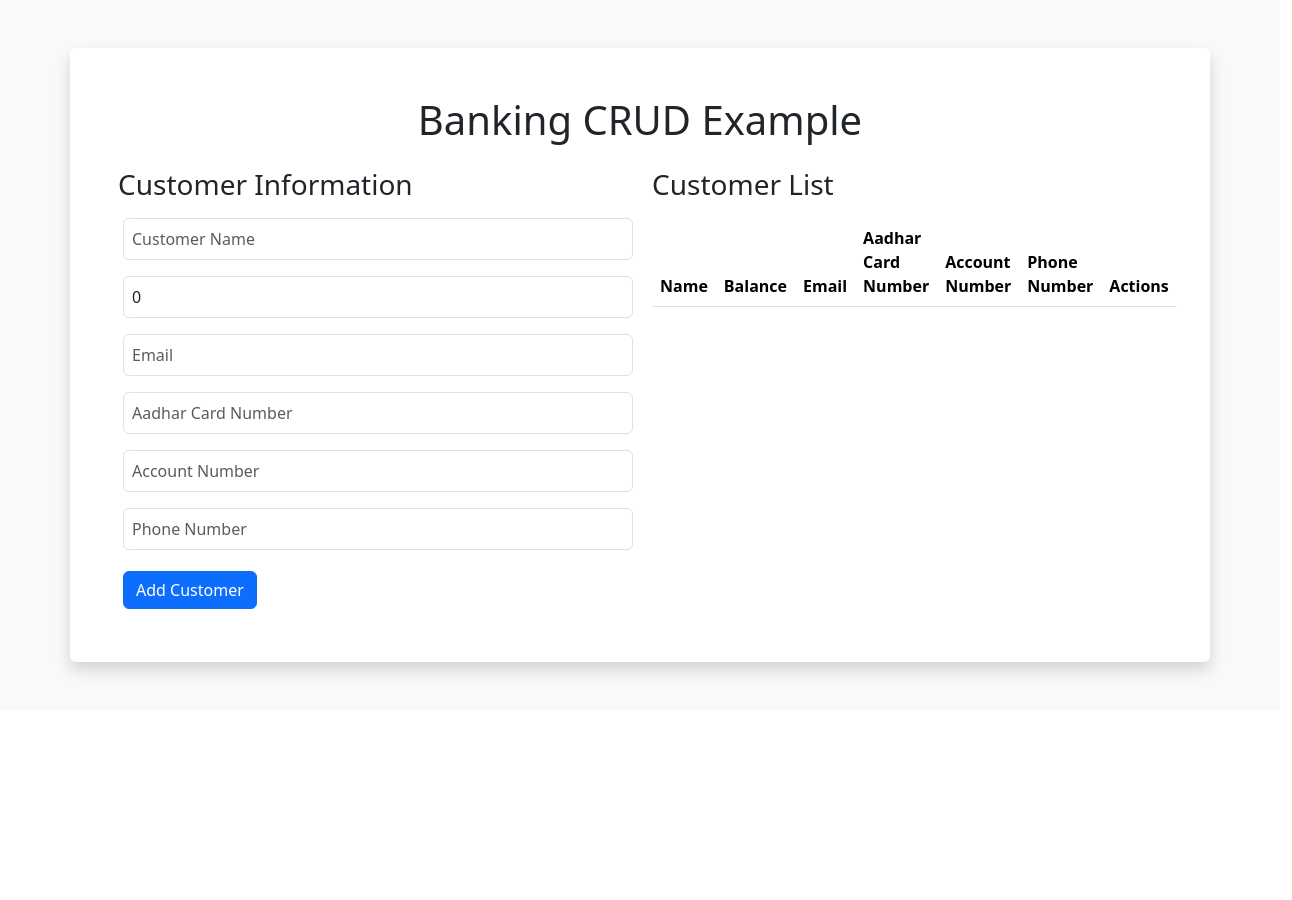
Test case: BankingCrudOperation › adds a new customer
Type "Jane Doe" into the field with placeholder "Customer Name". click: {"x": 378, "y": 239}
box: [123, 218, 633, 260]
Replace the text in the 2nd field with placeholder "Balance" with "5000". click: {"x": 378, "y": 297}
box: [123, 276, 633, 318]
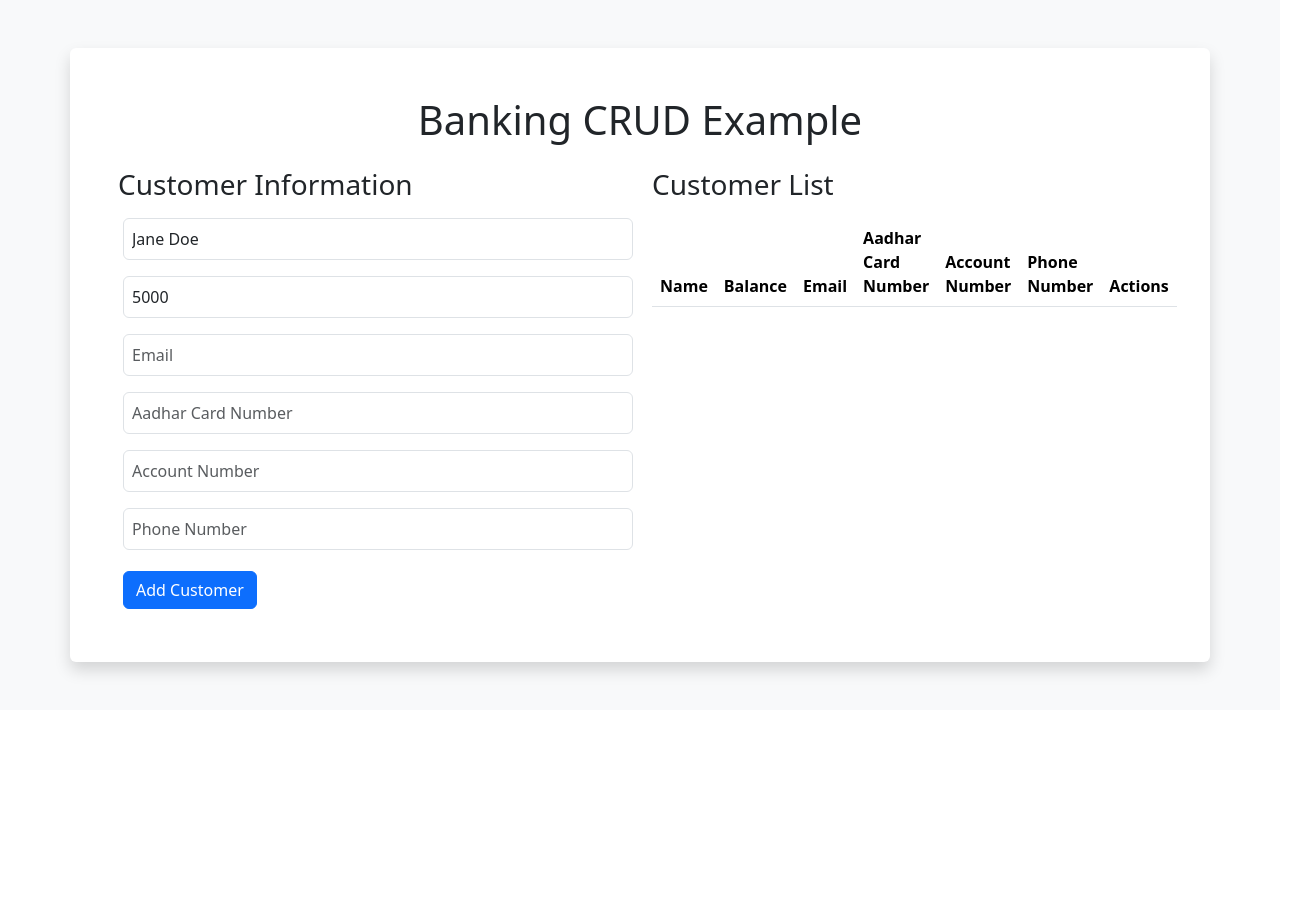
Type "jane@example.com" into the field with placeholder "Email". click: {"x": 378, "y": 355}
box: [123, 334, 633, 376]
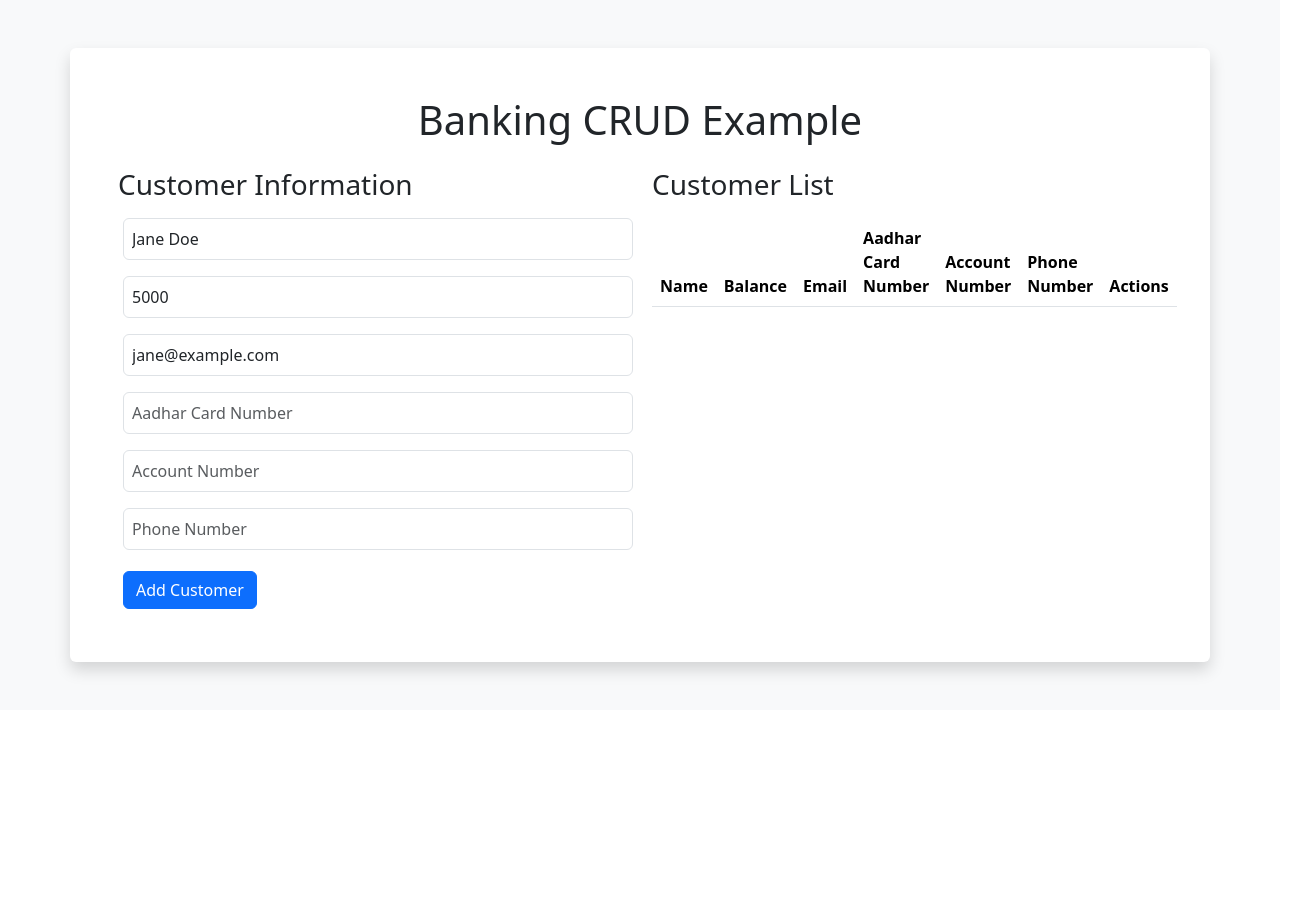
Type "210987654321" into the field with placeholder "Aadhar Card Number". click: {"x": 378, "y": 413}
box: [123, 392, 633, 434]
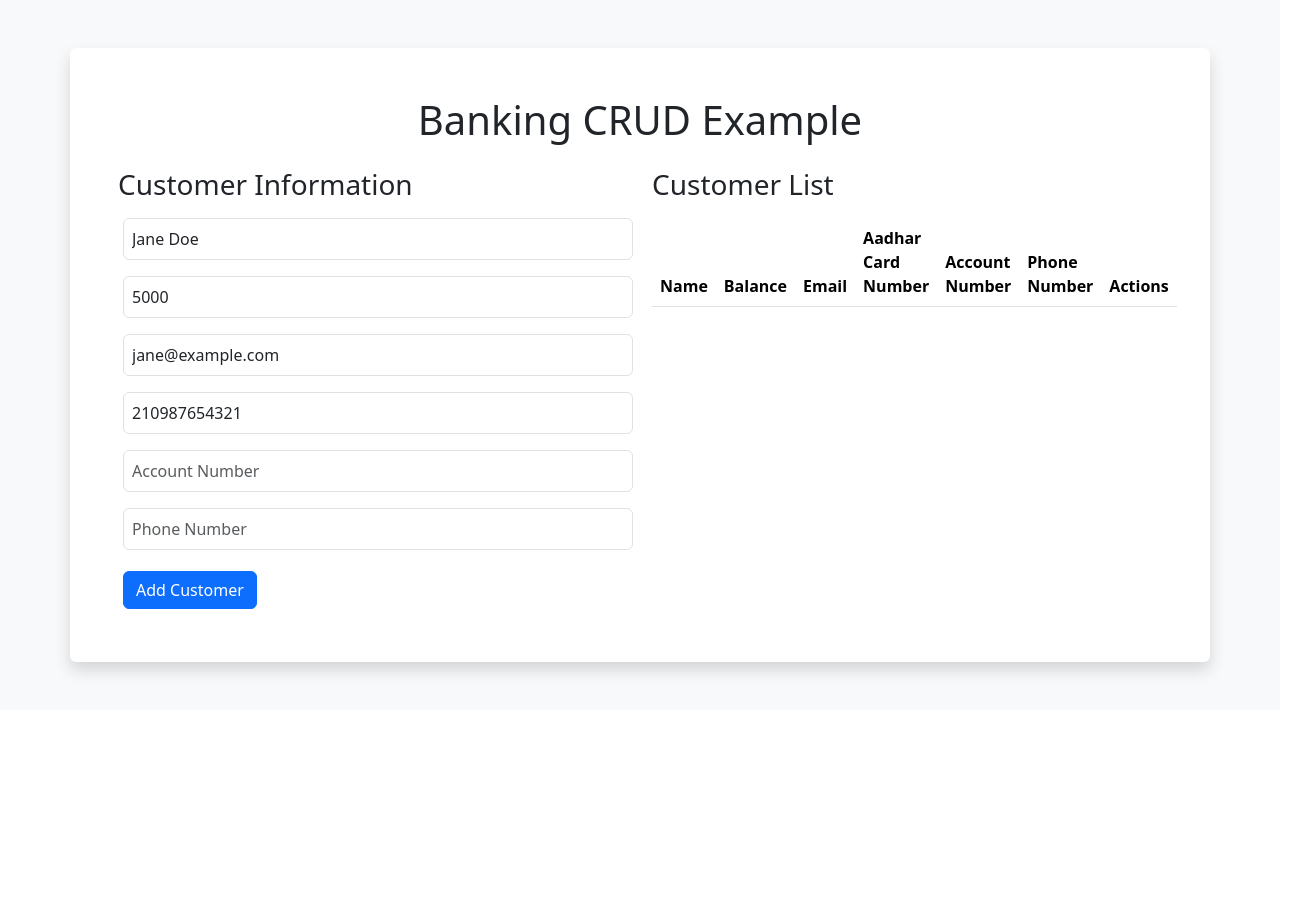
Type "0123456789" into the field with placeholder "Account Number". click: {"x": 378, "y": 471}
box: [123, 450, 633, 492]
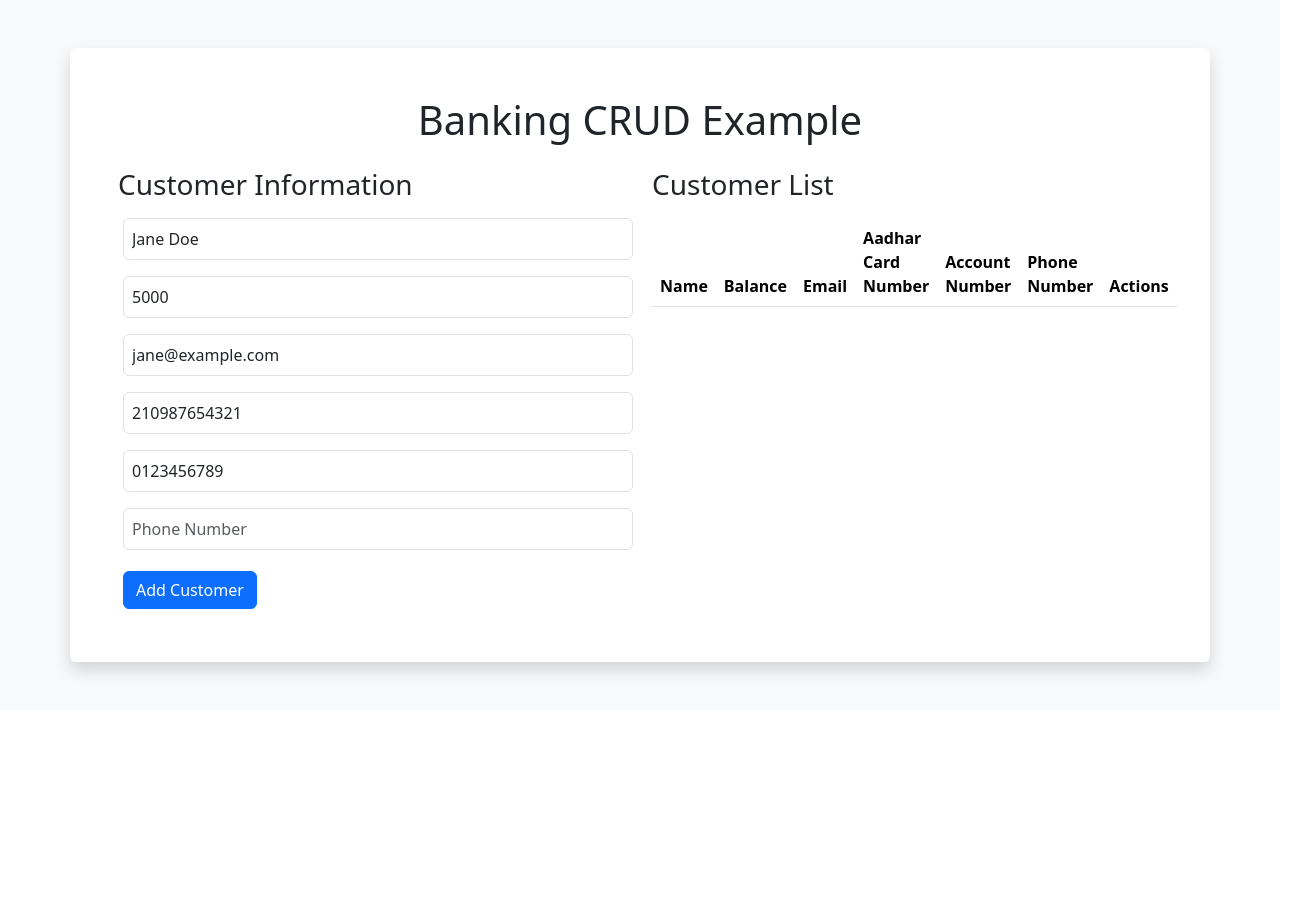
Type "0987654321" into the field with placeholder "Phone Number". click: {"x": 378, "y": 529}
box: [123, 508, 633, 550]
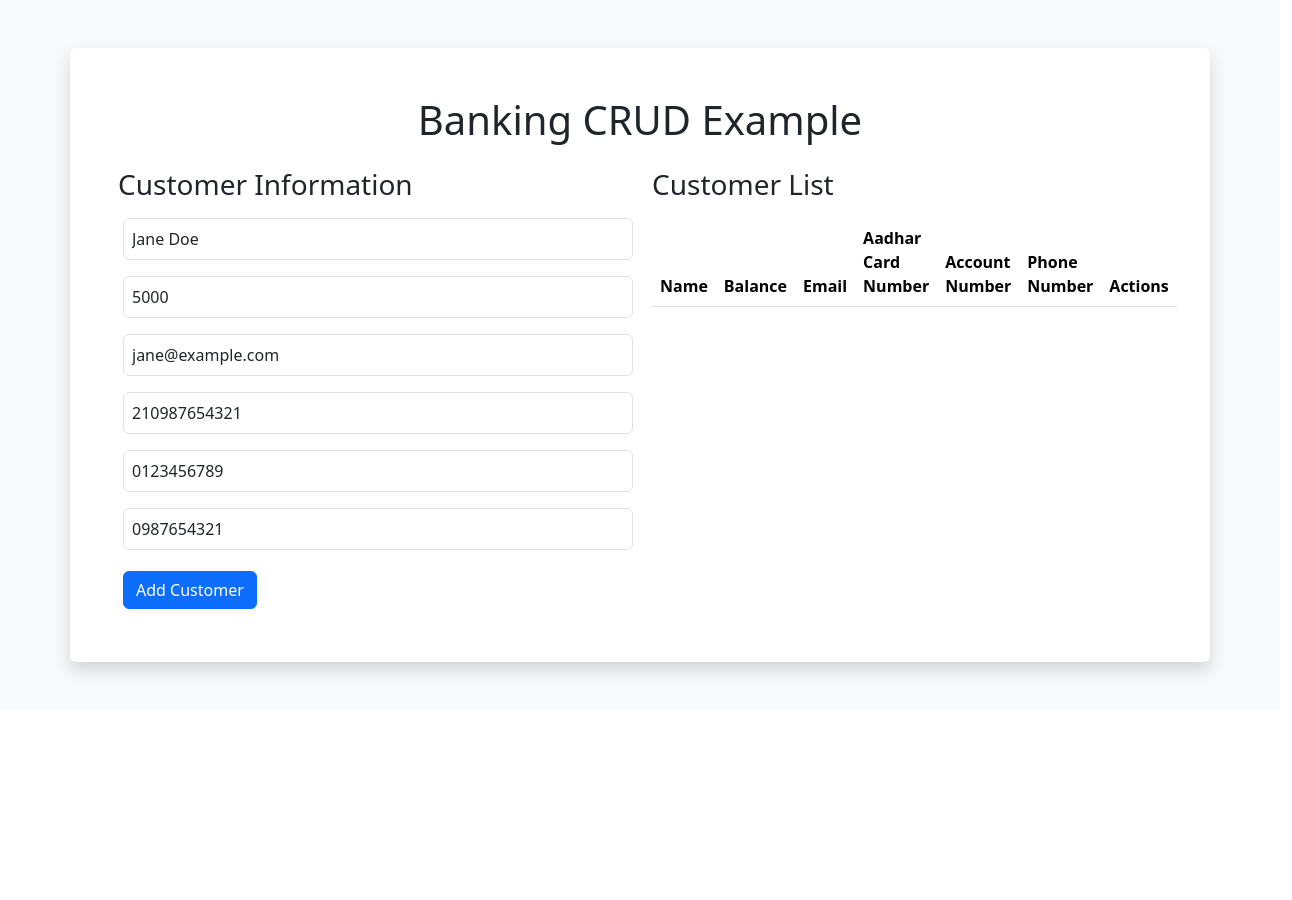
Click the button "Add Customer". click: {"x": 190, "y": 590}
box: [123, 571, 257, 609]
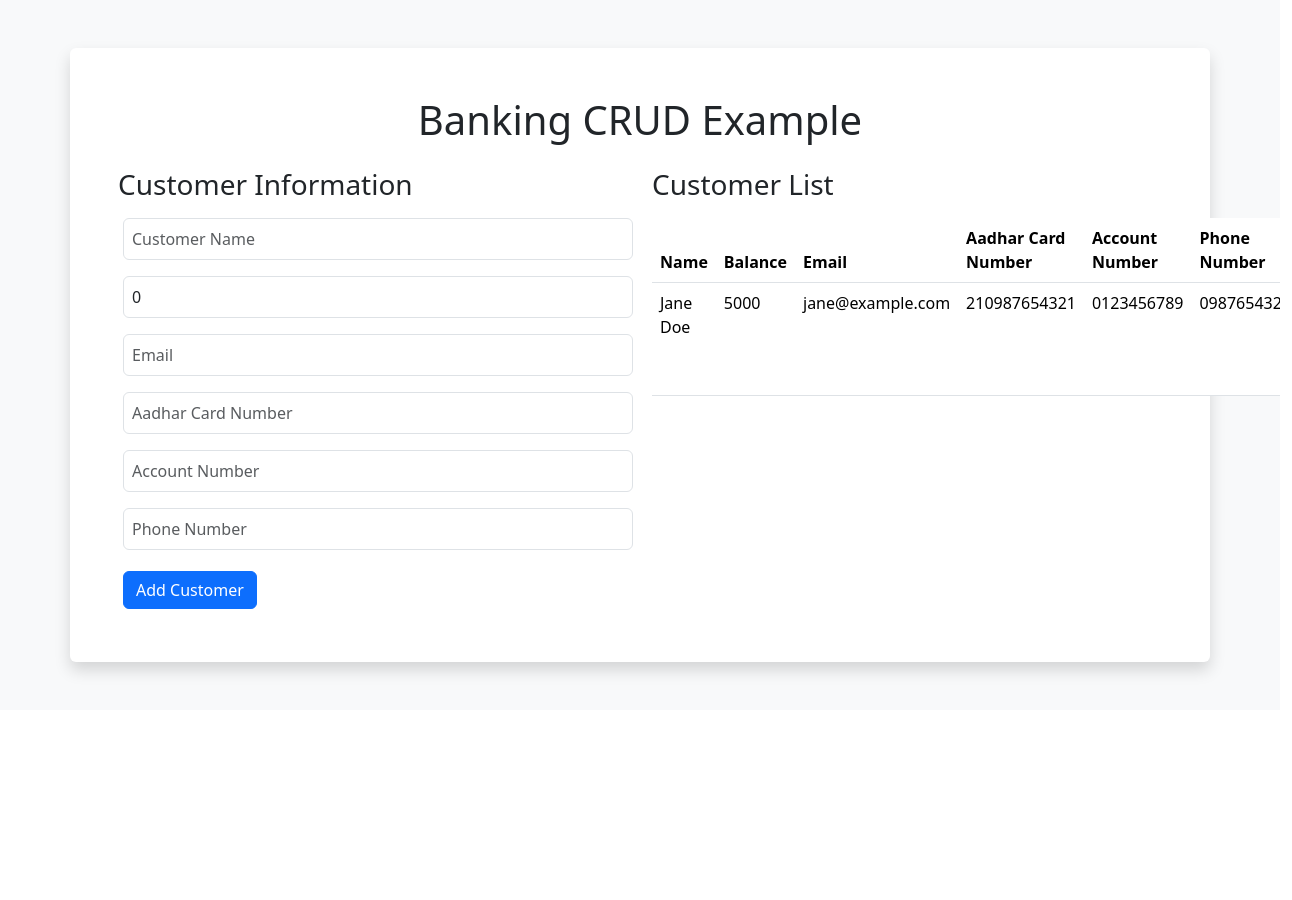
Check: the text "Jane Doe" is shown, box [652, 282, 716, 395]
